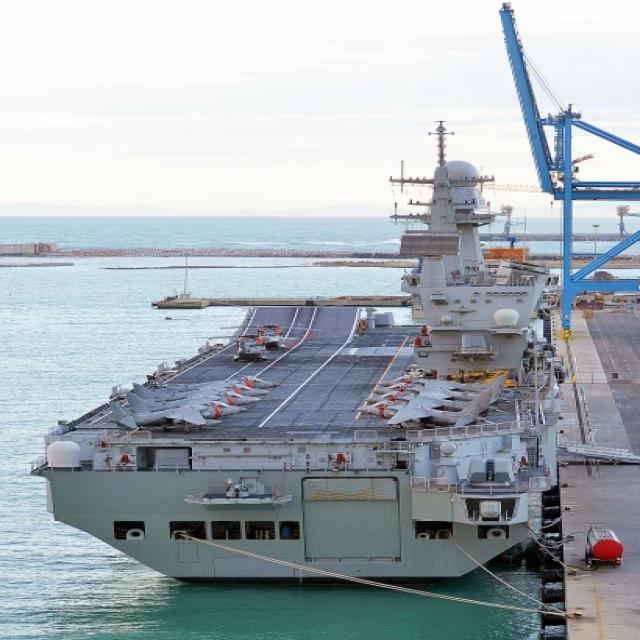Portanaves: (32, 126, 558, 593)
